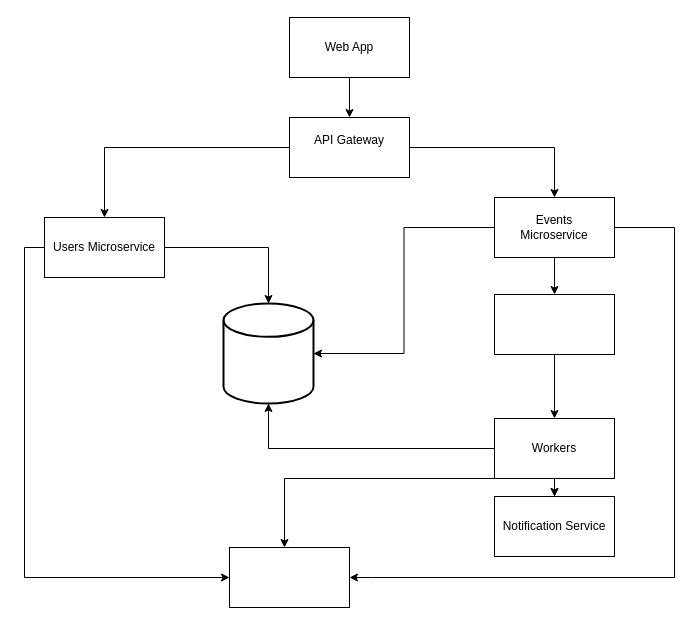
The diagram is 700 pixels wide and 625 high, and some of its shapes have lost their labels. Each missing label, with the centre of its shape:
Audit Service: pixel 289 577
PostgreSQL: pixel 268 353
Queue (rabbitmq): pixel 554 324
